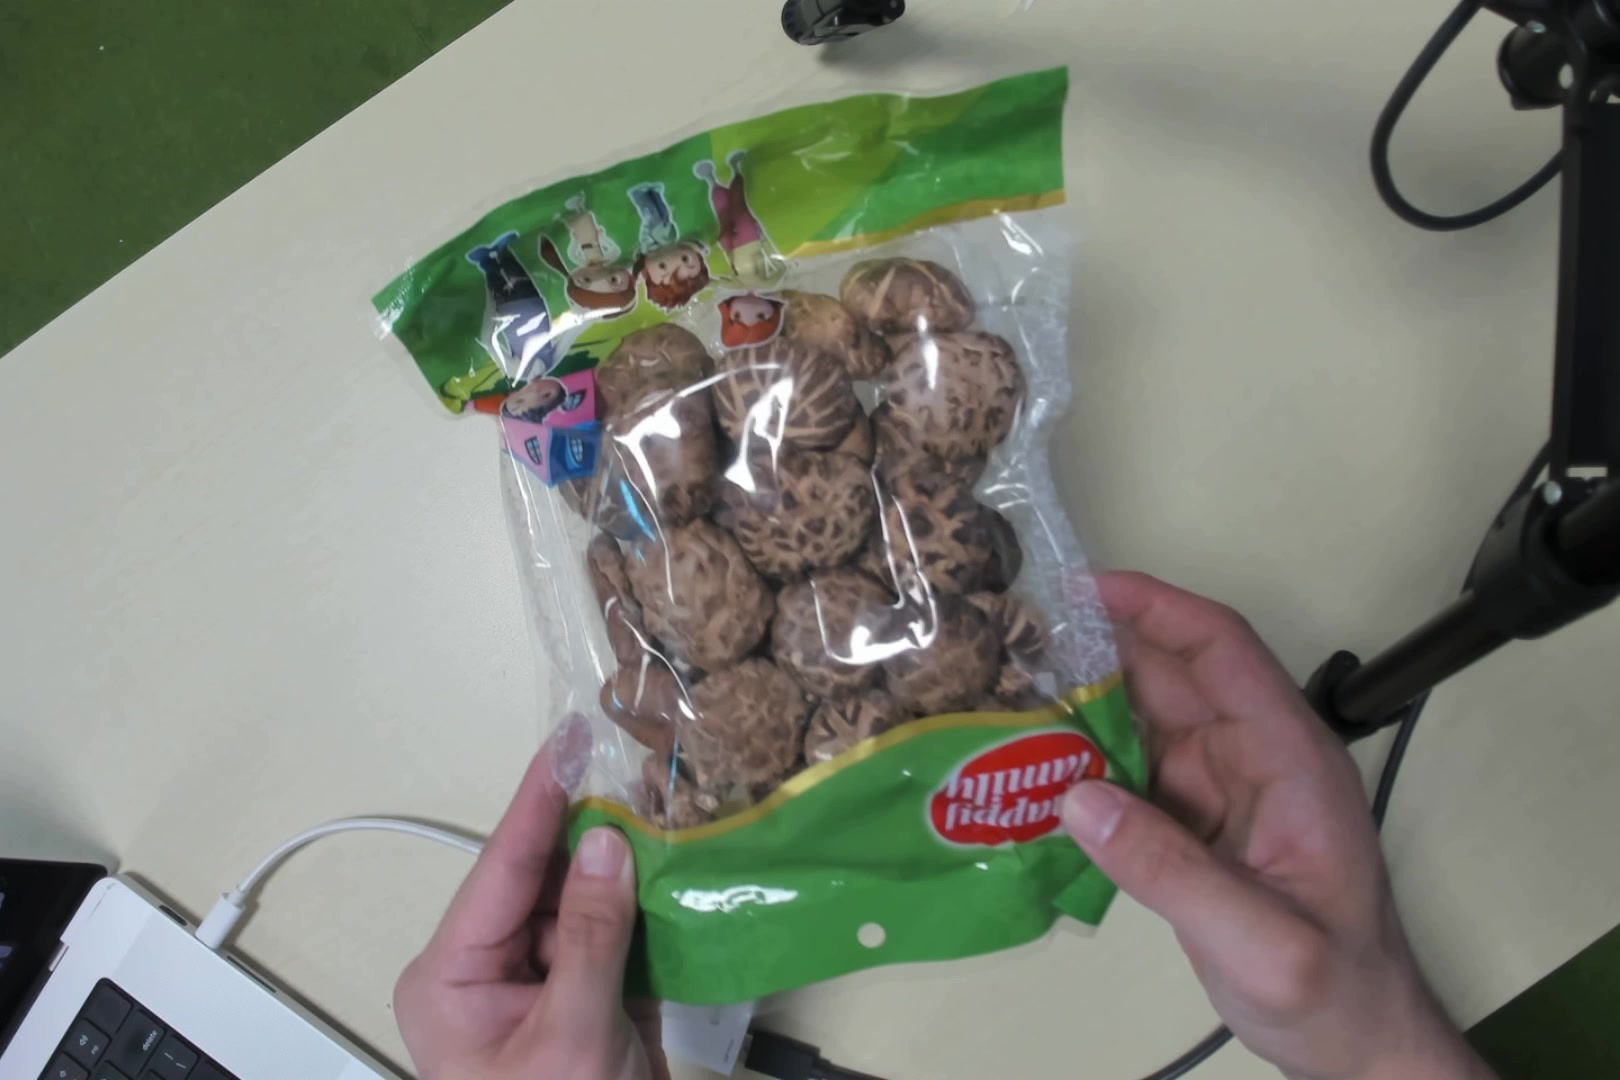OtherDriedFood_100-199g_NonHalal_NonHealthy: (466, 101, 1104, 953)
